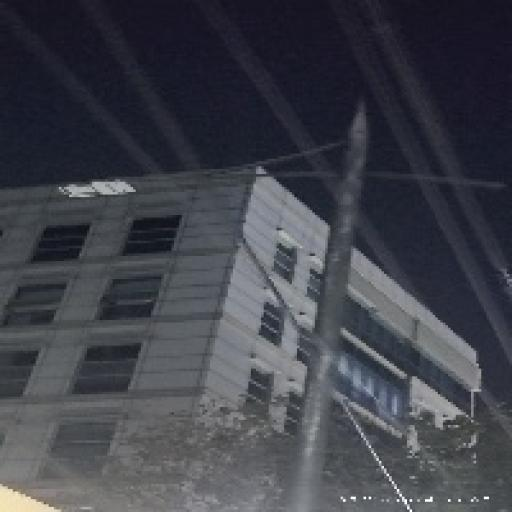Not Working: (49, 171, 143, 211)
